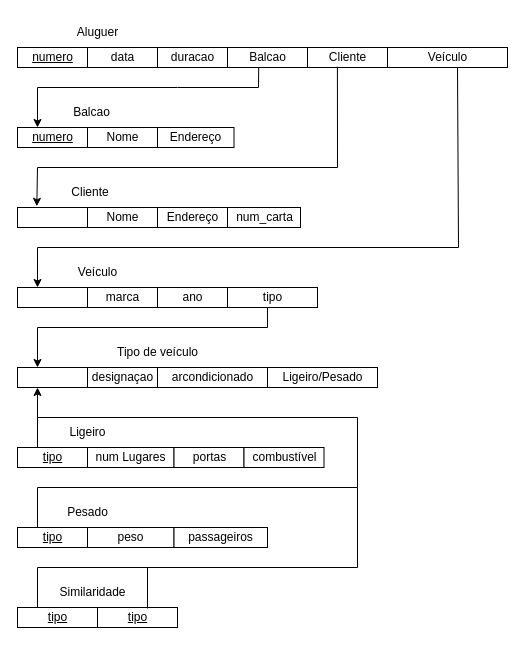
This 525x645 diagram has some shape labels left out. The box of each missing label's shape, as (x1, y1, x2, y2) in pixels:
codigo: (16, 366, 88, 388)
matricula: (16, 286, 88, 308)
NIF: (16, 206, 88, 228)
